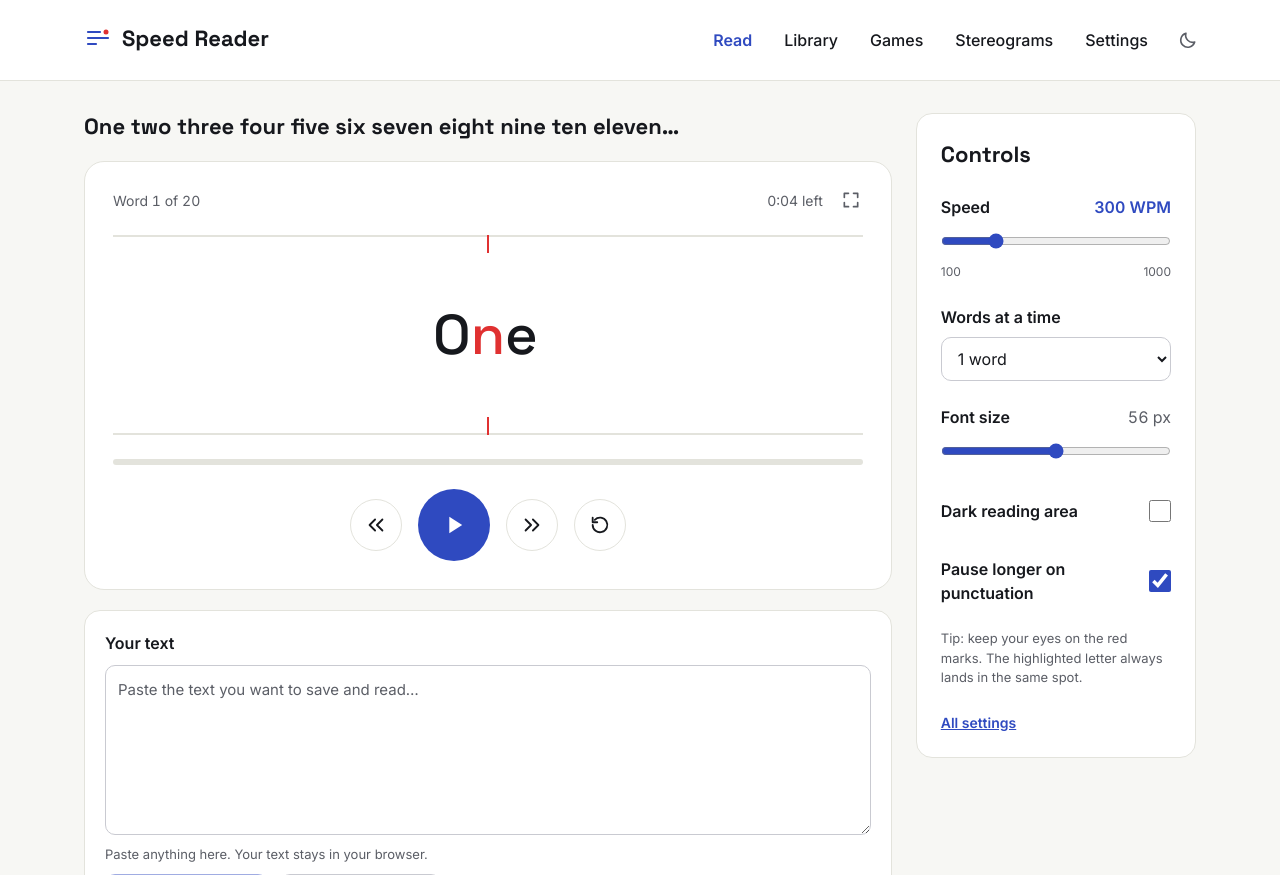
Scenario: reader › shows several words at a time, keeping your place when the setting changes
Click the button named "Forward 10 words": [532, 524] box [506,498,558,550]
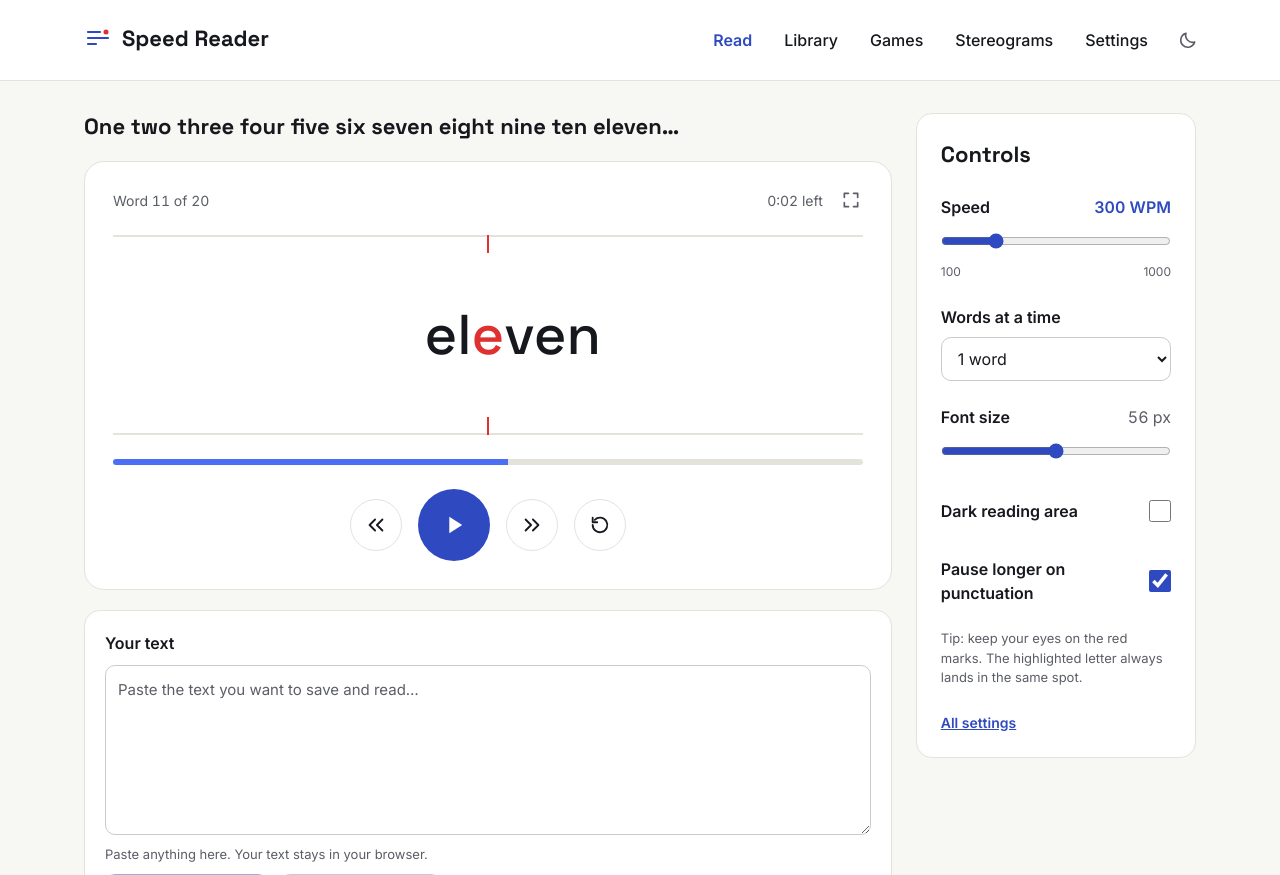
Now the element with test id "stage-word" reads "el e ven", box [424,299,601,370]
Select "3 words" in the dropdown labelled "Words at a time": [1056, 359] box [941,337,1171,381]
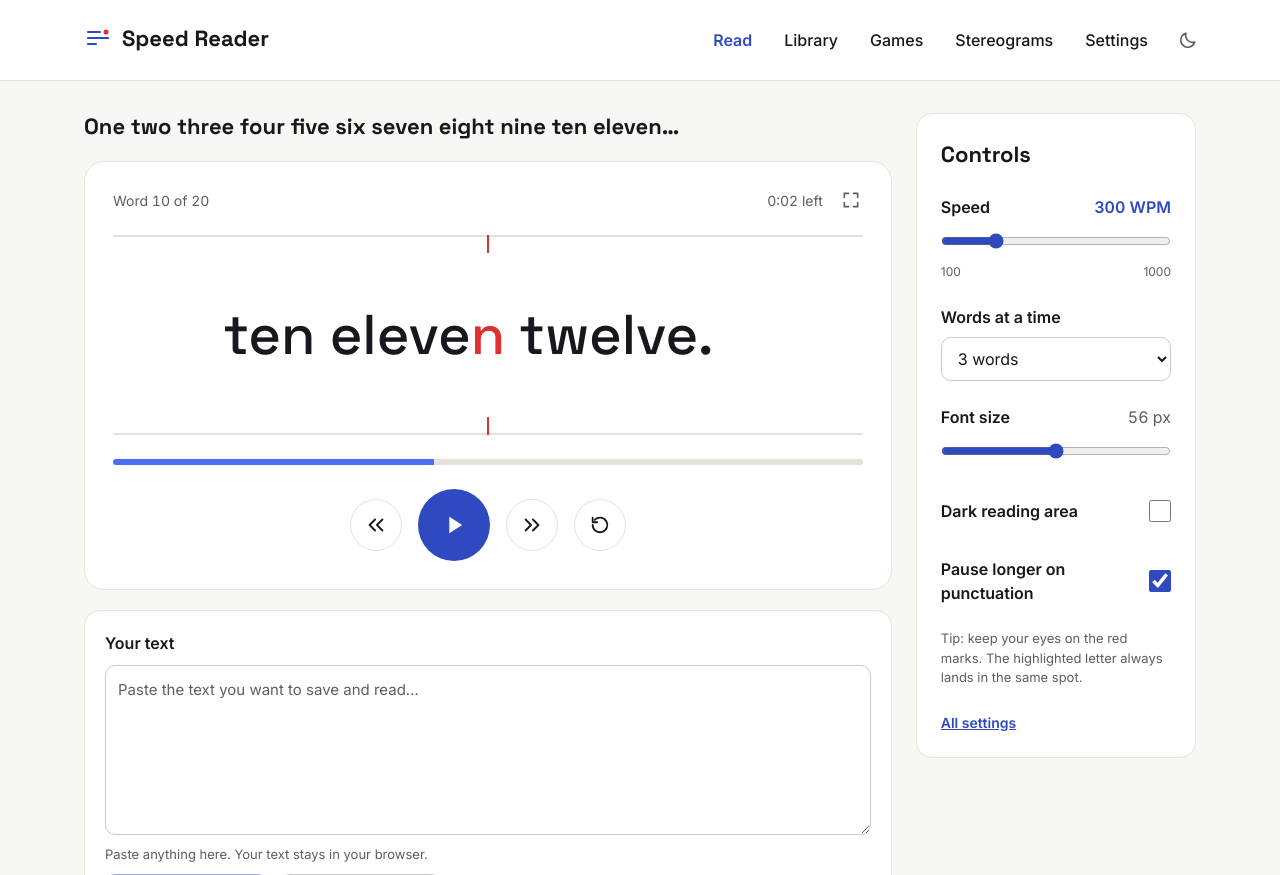
Now the element with test id "stage-word" reads "ten eleve n twelve.", box [224,299,713,370]
Type keys "{Shift>}{ArrowRight}{/Shift}"
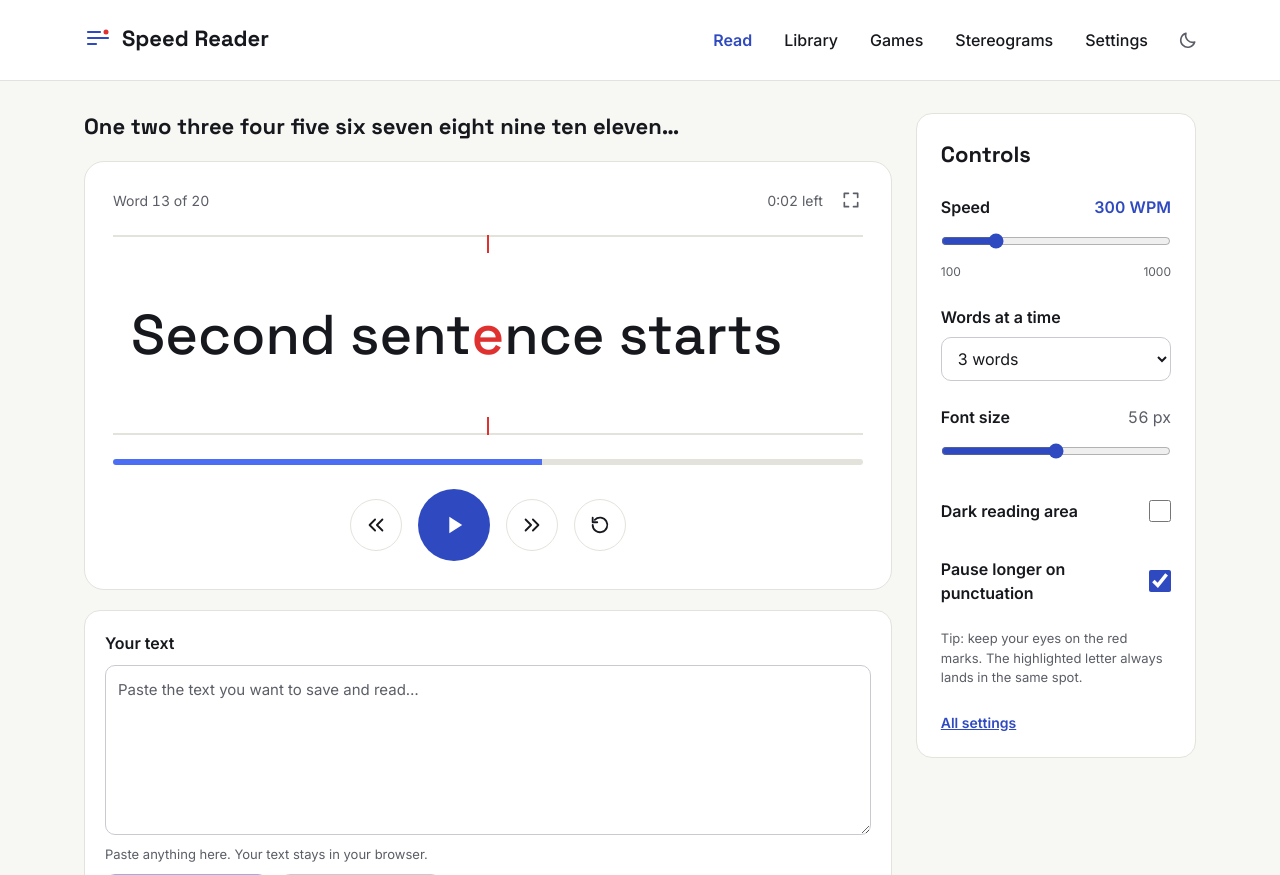
Now the element with test id "stage-word" reads "Second sent e nce starts", box [113,301,863,368]
Select "1 word" in the dropdown labelled "Words at a time": [1056, 359] box [941,337,1171,381]
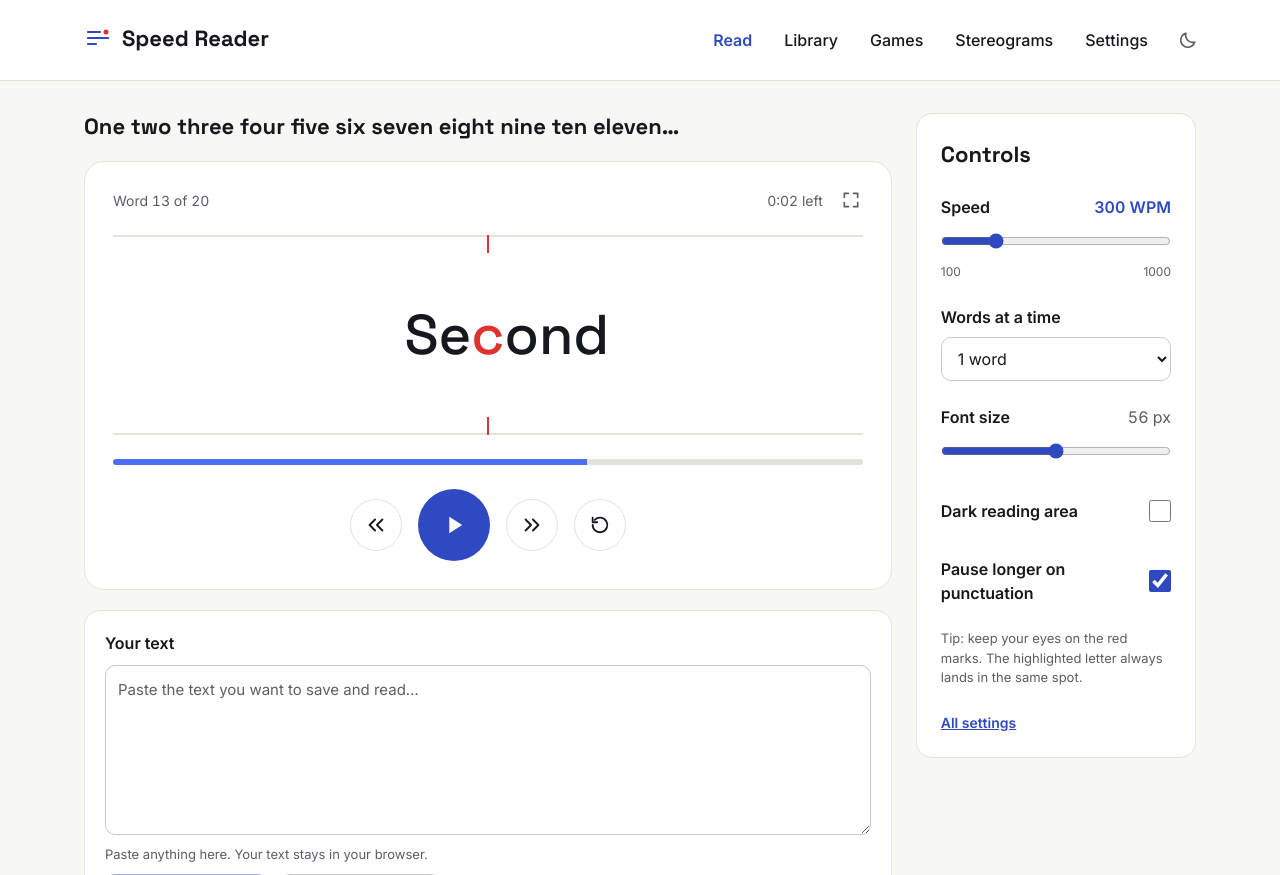
Now the element with test id "stage-word" reads "Se c ond", box [404,299,609,370]
